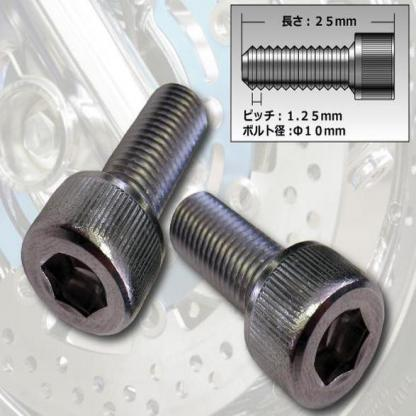FOD: (20, 80, 208, 341), (168, 188, 386, 412), (239, 30, 397, 102)
